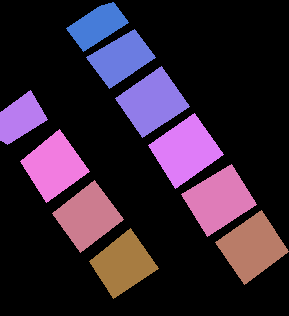parkingspot: (148, 113, 223, 188), (215, 210, 288, 284), (181, 164, 256, 236), (115, 66, 189, 137), (52, 180, 123, 252), (20, 129, 89, 202), (89, 228, 158, 298), (86, 29, 155, 88), (66, 2, 128, 51), (0, 90, 47, 144)
